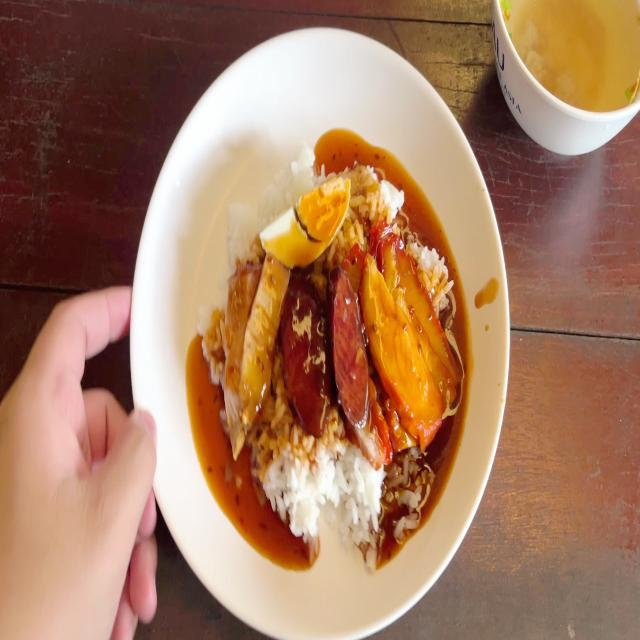boiled_egg: (261, 175, 348, 263)
chainese_sausage: (279, 267, 367, 426)
crispy_pork: (224, 256, 273, 434)
red_pork: (366, 232, 447, 426)
red_pork_and_crispy_pork: (201, 141, 453, 556)
rice: (259, 422, 387, 547)
